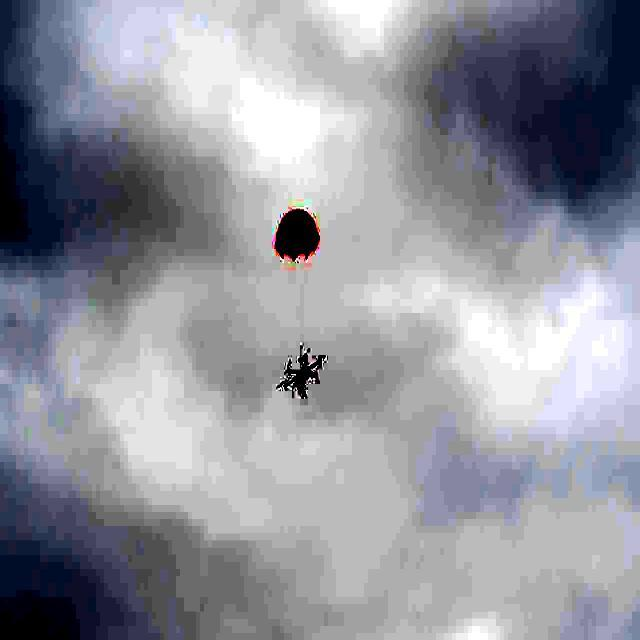drone: (276, 353, 326, 399)
